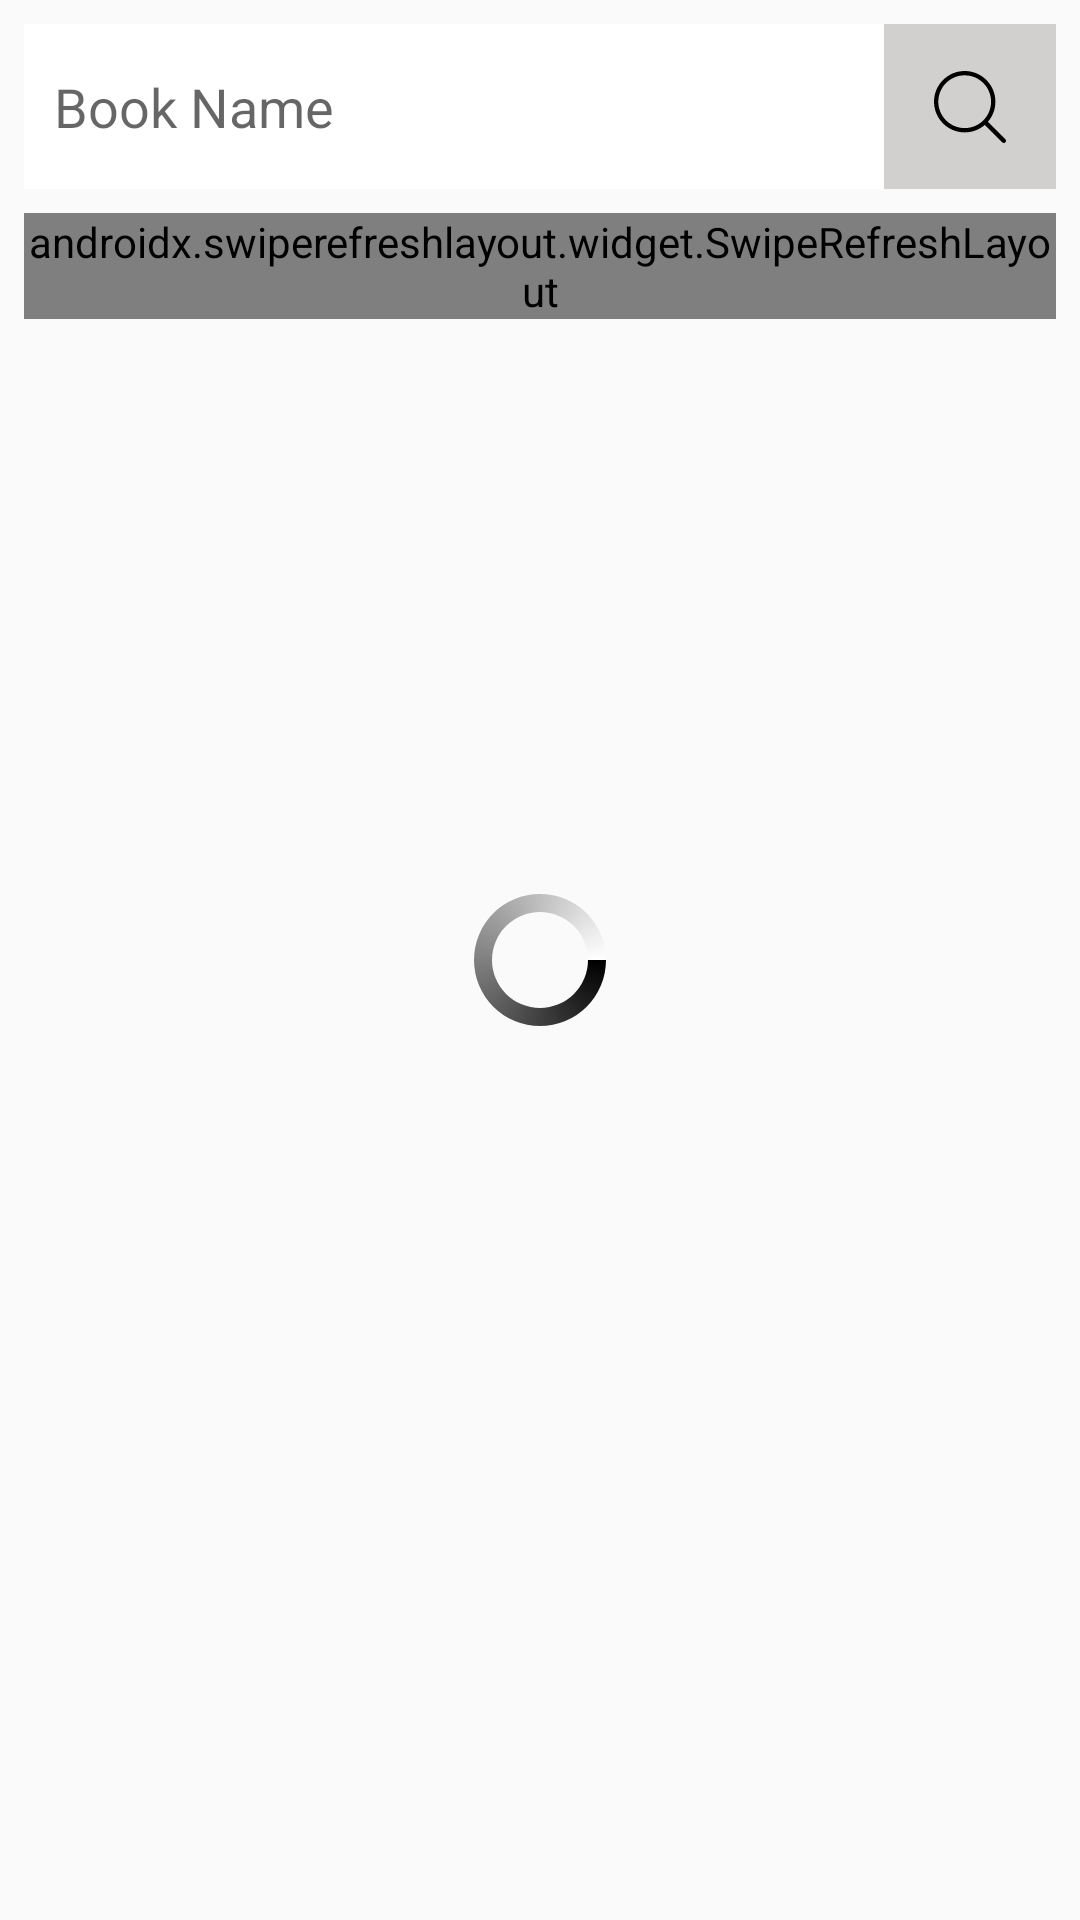

Named icons in this screenshot (1080px x 1920px) and their centers, (x,y):
search: (970,106)
